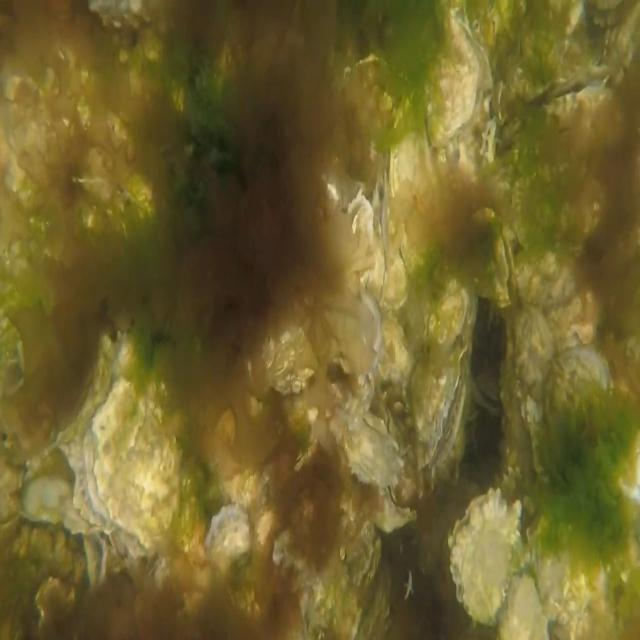Oyster-Closed: (526, 510, 606, 620), (413, 342, 469, 470), (329, 405, 405, 496), (372, 481, 418, 533)
Oyster-Indeterminate: (82, 377, 180, 556), (542, 344, 640, 500), (449, 488, 522, 628), (425, 0, 481, 147), (388, 128, 440, 278), (510, 303, 554, 472), (244, 318, 322, 396), (511, 242, 582, 309), (378, 186, 409, 314), (432, 271, 478, 354), (207, 500, 250, 562)
Oyster-Open: (492, 228, 518, 309), (346, 193, 374, 263)
